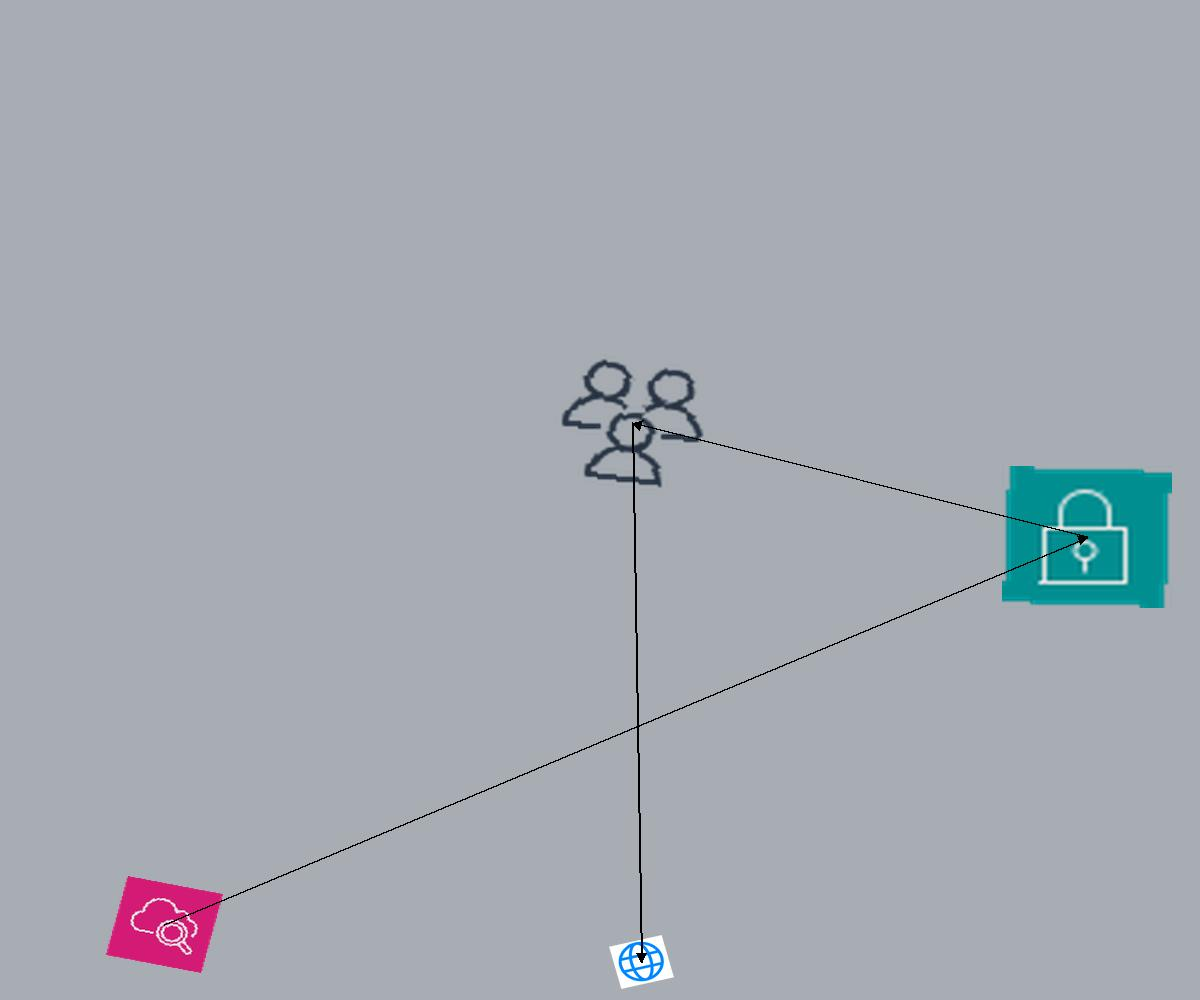AWS-CloudWatch: (106, 876, 223, 973)
AWS-Private-subnet: (1002, 466, 1172, 608)
AWS-Res_Users: (543, 349, 722, 498)
Azure_http: (609, 935, 674, 989)
